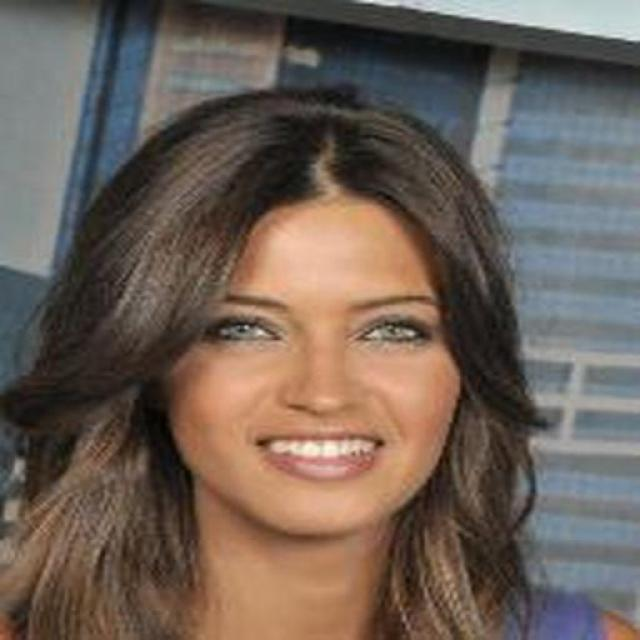bareface: (134, 125, 448, 517)
